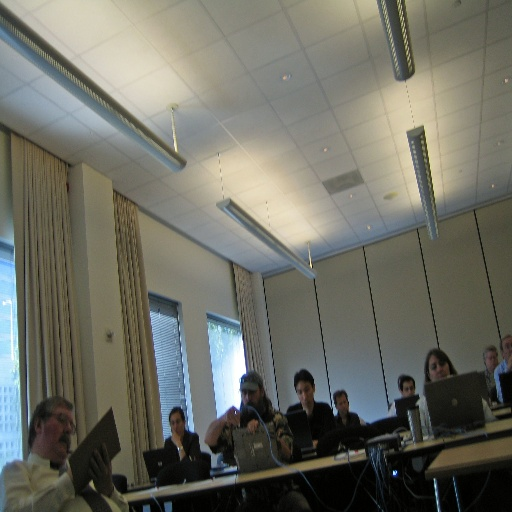hand: (86, 441, 113, 499), (226, 405, 240, 428), (246, 417, 260, 437), (170, 426, 181, 445), (311, 440, 318, 450)
